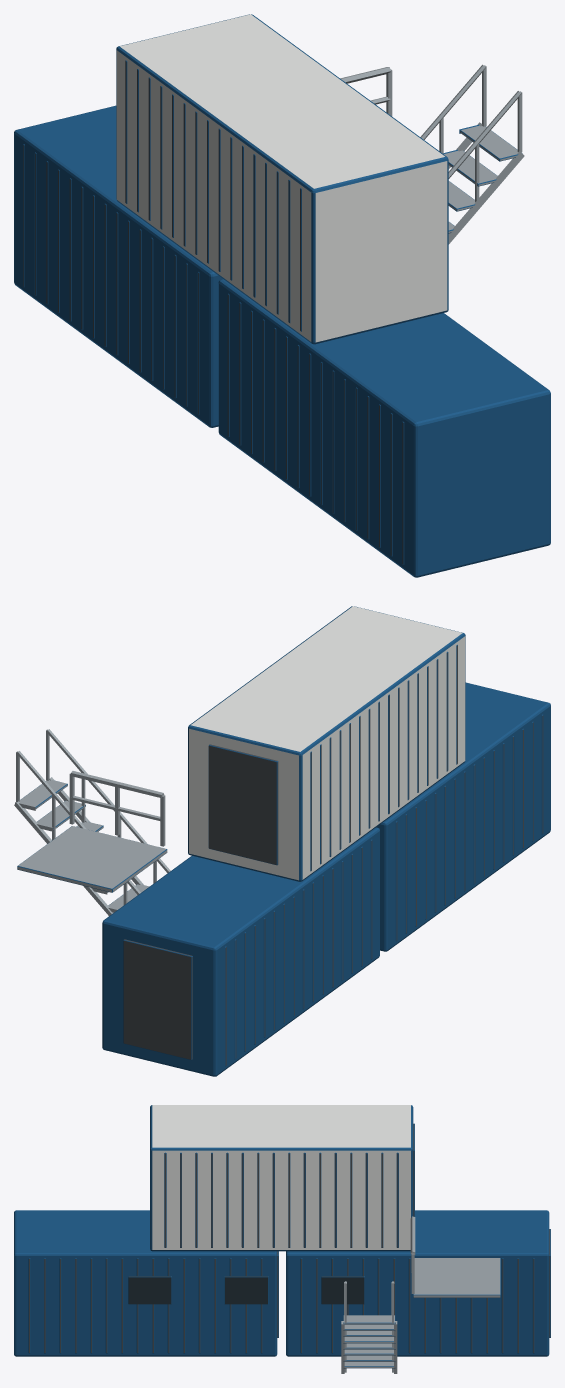
The model's file is prp_office_stack.glb.
3 views of the same model, one above another, from view 1: azimuth 30°, elevation 25°; view 2: azimuth 150°, elevation 25°; view 3: azimuth 270°, elevation 25° (orthographic). The views are drawn at different scales.
Visible parts, largest first — view 1: prp_office_stack; view 2: prp_office_stack; view 3: prp_office_stack.
Part boxes in pixels (x1,y1,x2,y2): prp_office_stack: [14, 14, 550, 577]; prp_office_stack: [14, 606, 550, 1076]; prp_office_stack: [14, 1105, 550, 1373].
Bounding box in the file's own units: 6.24 × 5.28 × 12.24.
